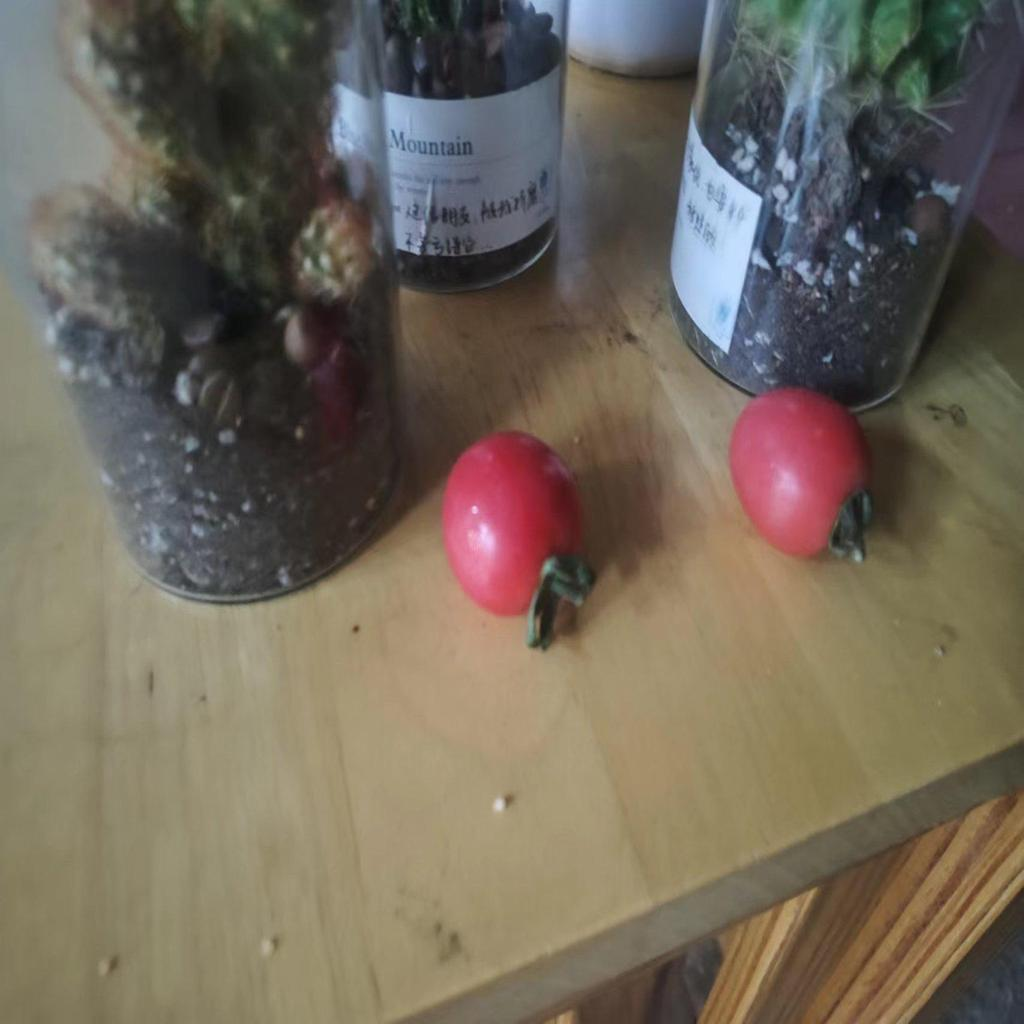tomato: (432, 425, 600, 640), (718, 389, 882, 561)
